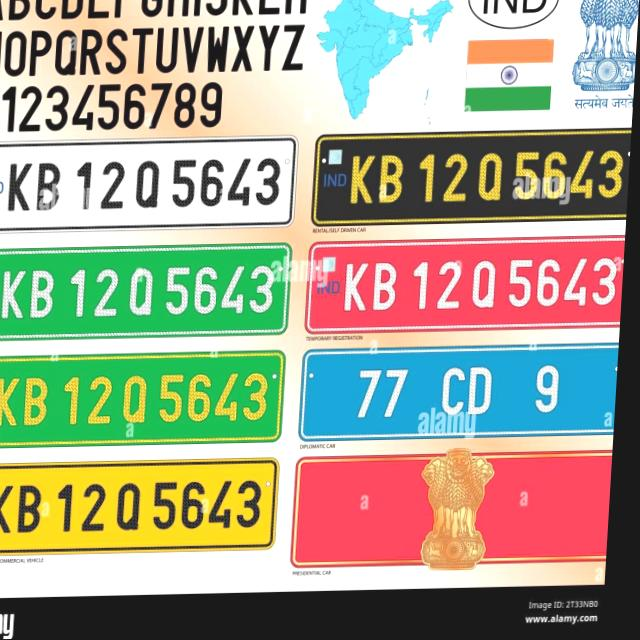1: (79, 162, 96, 210), (74, 271, 91, 319), (69, 378, 86, 426), (63, 486, 80, 534), (421, 155, 438, 203), (417, 262, 434, 310)
2: (103, 162, 130, 211), (444, 157, 471, 206), (97, 269, 124, 318), (90, 377, 117, 426), (86, 484, 113, 533), (440, 263, 467, 312)
3: (257, 161, 284, 208), (601, 153, 628, 200), (596, 262, 623, 309), (251, 267, 278, 314), (246, 374, 273, 421), (241, 482, 268, 529)
4: (231, 160, 257, 209), (573, 154, 599, 203), (568, 262, 594, 311), (224, 267, 250, 316), (219, 375, 245, 424), (215, 481, 241, 530)
5: (172, 160, 198, 209), (169, 268, 195, 317), (163, 374, 189, 423), (516, 154, 542, 203), (157, 482, 183, 531), (510, 261, 536, 310)
6: (545, 154, 571, 202), (197, 268, 223, 316), (185, 482, 211, 530), (538, 262, 564, 309), (191, 376, 217, 423), (202, 162, 227, 210)
7: (359, 369, 387, 423), (387, 369, 413, 423)
9: (538, 369, 568, 419)
b: (37, 162, 65, 213), (31, 270, 59, 321), (27, 378, 55, 429), (21, 484, 49, 535), (378, 158, 406, 208), (375, 264, 403, 314)
c: (443, 367, 473, 418)
d: (471, 369, 499, 418)
k: (0, 267, 30, 322), (7, 158, 36, 213), (343, 265, 372, 320), (349, 155, 378, 209), (0, 375, 25, 430), (0, 483, 20, 538)
q: (136, 162, 165, 212), (132, 266, 161, 316), (127, 376, 156, 426), (479, 153, 508, 203), (121, 485, 150, 535), (473, 260, 502, 310)
